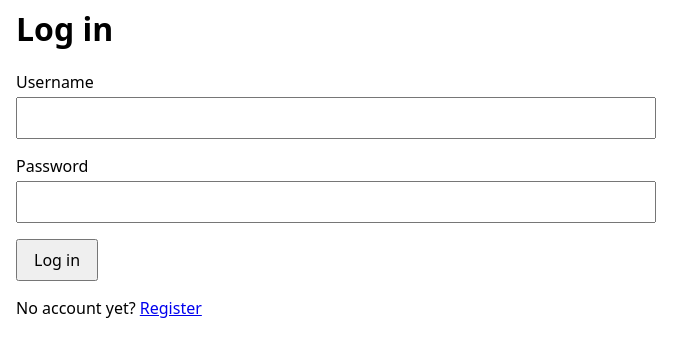
Test: Login › shows a general error when the server fails
The image size is (673, 354).
In the field labelled "Username": (336, 118) [16,97,656,139], type "alice"
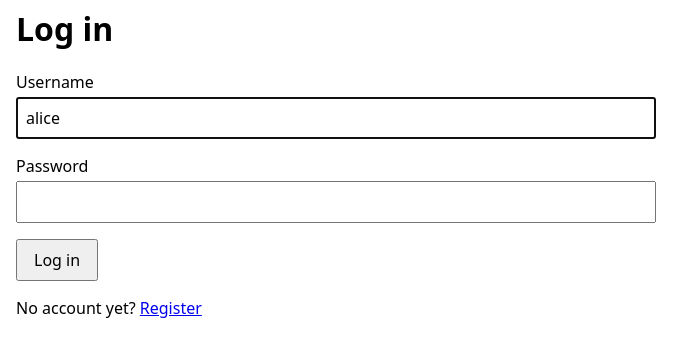
In the password field labelled "Password": (336, 202) [16,181,656,223], type "secret-pass"
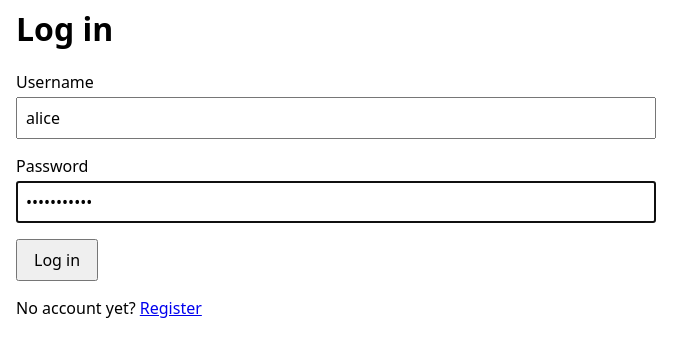
Click the button "Log in": (57, 260) [16,239,98,281]
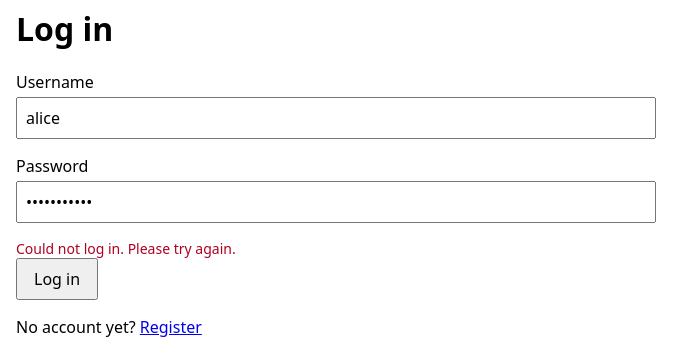
Expected: the button "Log in" is enabled, [16,258,98,300]
Expected: the message reads "Could not log in. Please try again.", [16,239,236,258]
